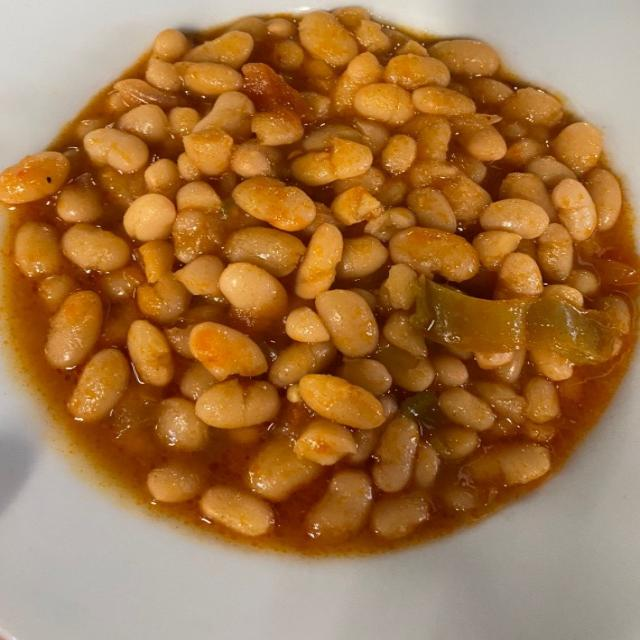ana_yemek: (1, 5, 638, 554)
